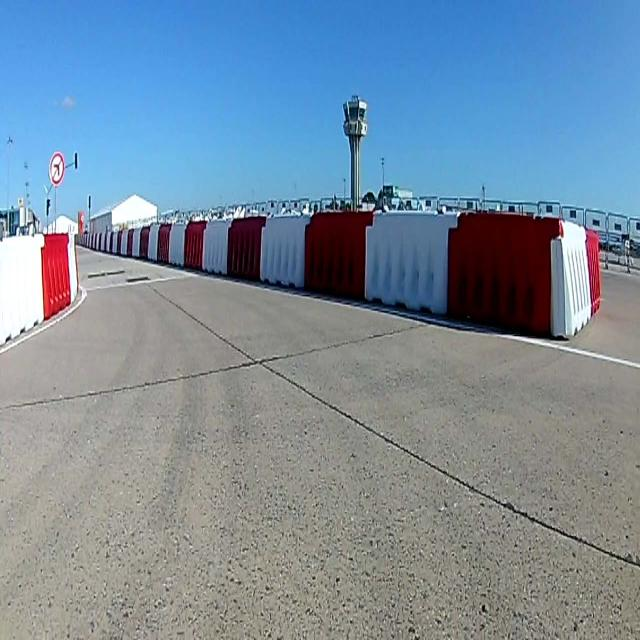soladonulmez: (50, 153, 64, 187)
